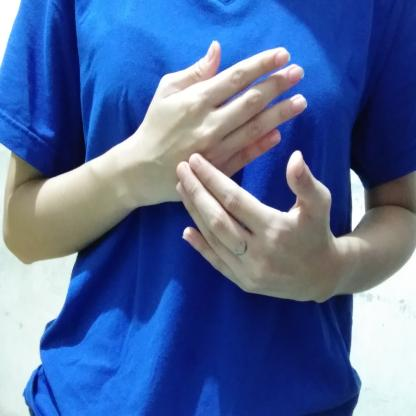thank you: (123, 35, 342, 317)
